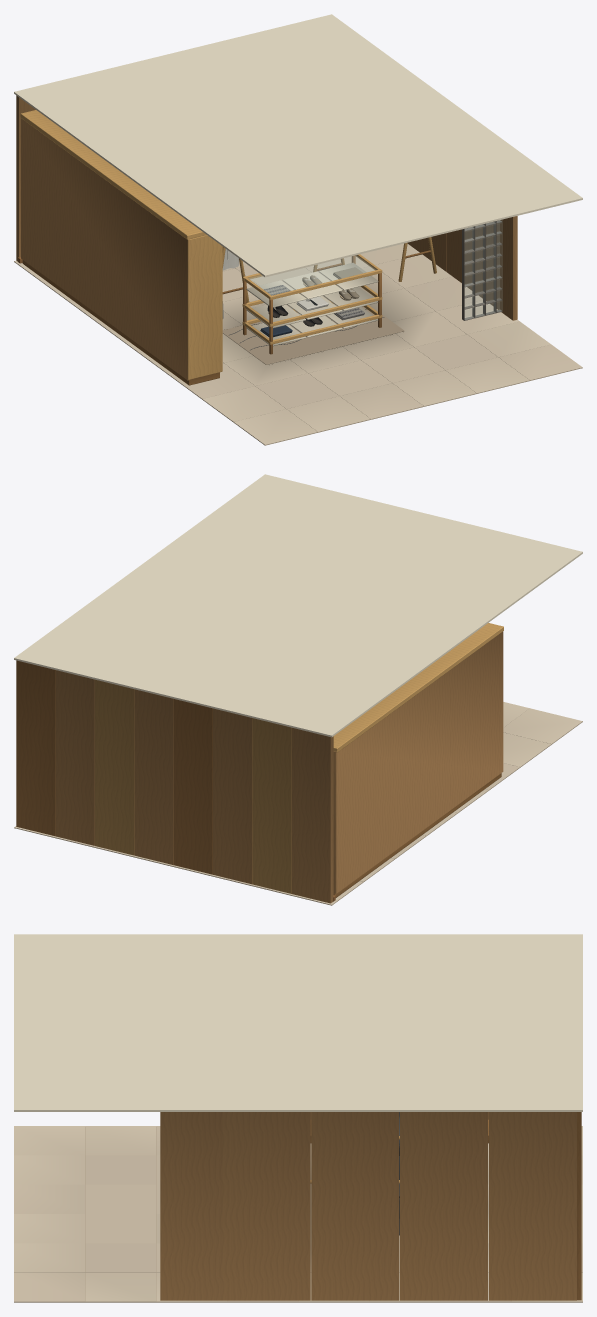
File: gallery.glb
3 renders of one model, top to bottom at view 1: azimuth 30°, elevation 25°; view 2: azimuth 150°, elevation 25°; view 3: azimuth 270°, elevation 25°, orthographic. The views are drawn at different scales.
Parts seen in each view (by area): view 1: BrownyardDisplay, BrownyardOak, BrownyardGlass, BrownyardCloth; view 2: BrownyardDisplay, BrownyardOak; view 3: BrownyardDisplay, BrownyardOak.
Part boxes in pixels (x1,y1,x2,y2): BrownyardDisplay: (14,14,582,445); BrownyardOak: (16,95,517,385); BrownyardGlass: (249,220,502,319); BrownyardCloth: (222,249,404,365); BrownyardDisplay: (14,474,582,905); BrownyardOak: (16,623,503,903); BrownyardDisplay: (14,934,582,1302); BrownyardOak: (160,1112,581,1300).
Bounding box in the file's own units: 6.14 × 3.14 × 8.4.
5 materials, 2 textured.
